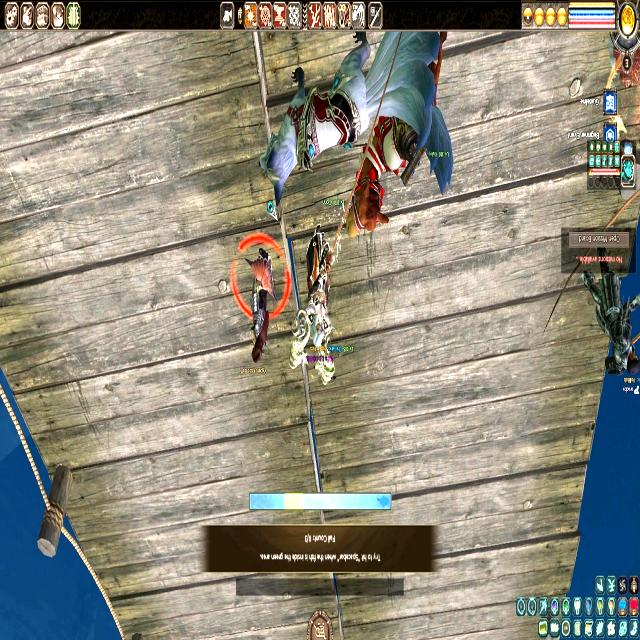fishes: (376, 494, 391, 509)
